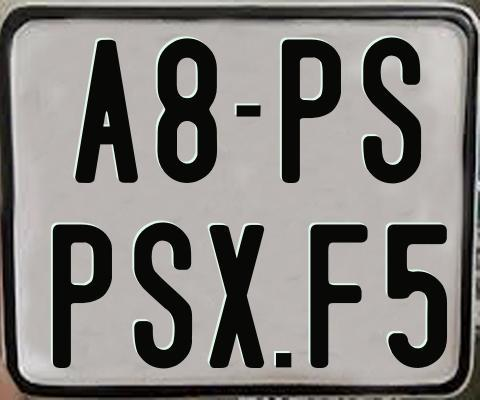5: (386, 221, 449, 365)
8: (154, 36, 219, 186)
A: (75, 38, 141, 184)
F: (307, 224, 371, 369)
P: (53, 221, 118, 370), (282, 36, 344, 183)
S: (134, 221, 192, 373), (363, 36, 422, 185)
X: (209, 222, 266, 366)
